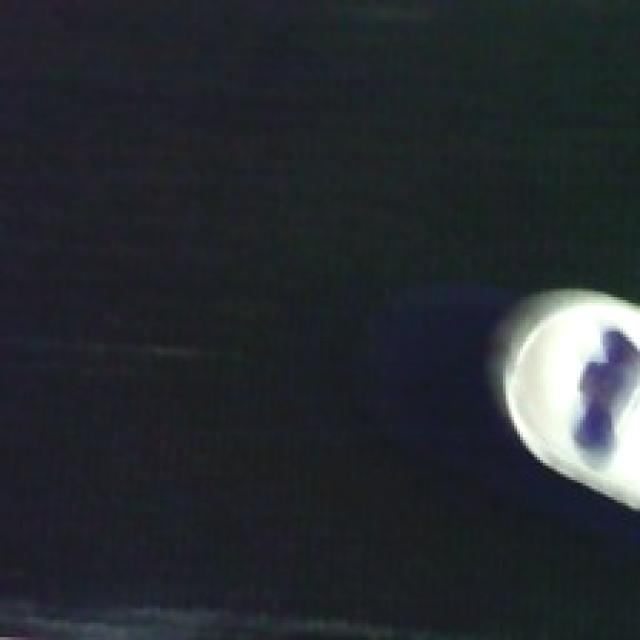defected: (483, 280, 640, 520)
